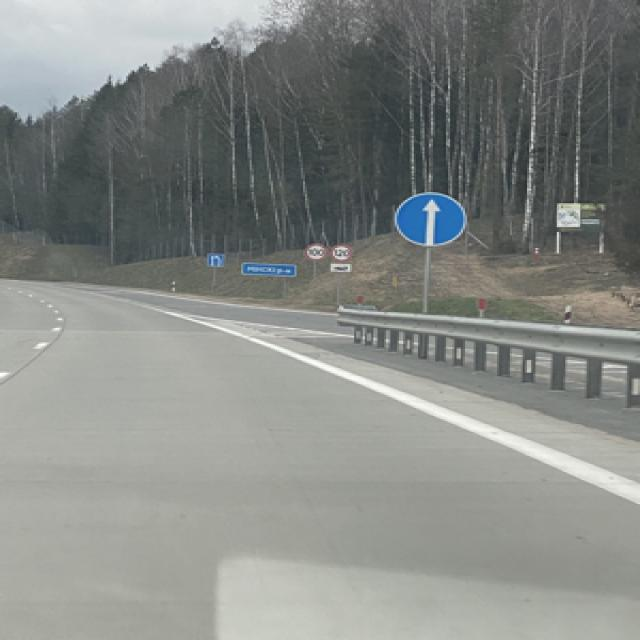speedlimit: (328, 243, 348, 259), (303, 242, 320, 258)
